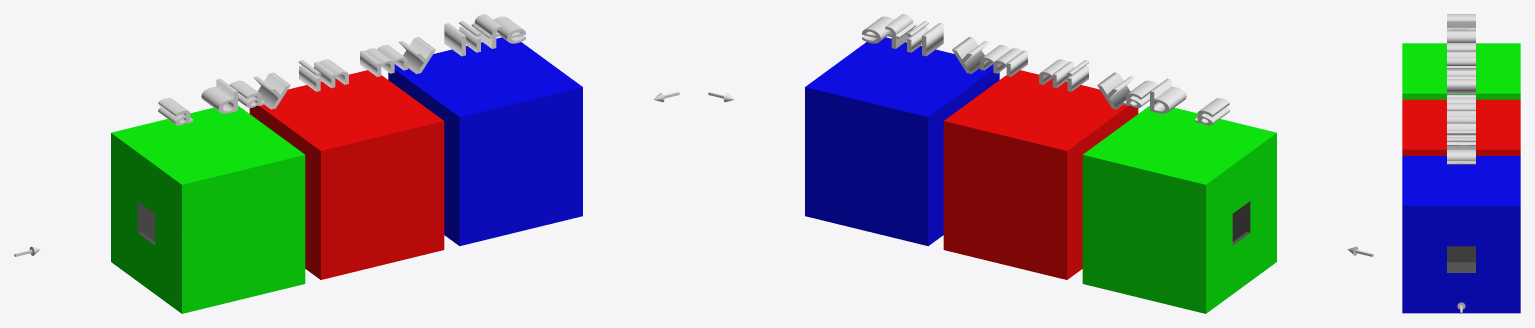
The model's file is environment.glb.
3 views of the same model, side by side, from view 1: azimuth 30°, elevation 25°; view 2: azimuth 150°, elevation 25°; view 3: azimuth 270°, elevation 25° (orthographic). The views are drawn at different scales.
Parts seen in each view (by area): view 1: Text; view 2: Text; view 3: Text.
Boxes of the visible parts, x1,y1,x2,y2 form: Text: (14, 14, 679, 313); Text: (708, 14, 1373, 313); Text: (1402, 14, 1520, 313).
Bounding box in the file's own units: 23.9 × 6.3 × 4.44.
